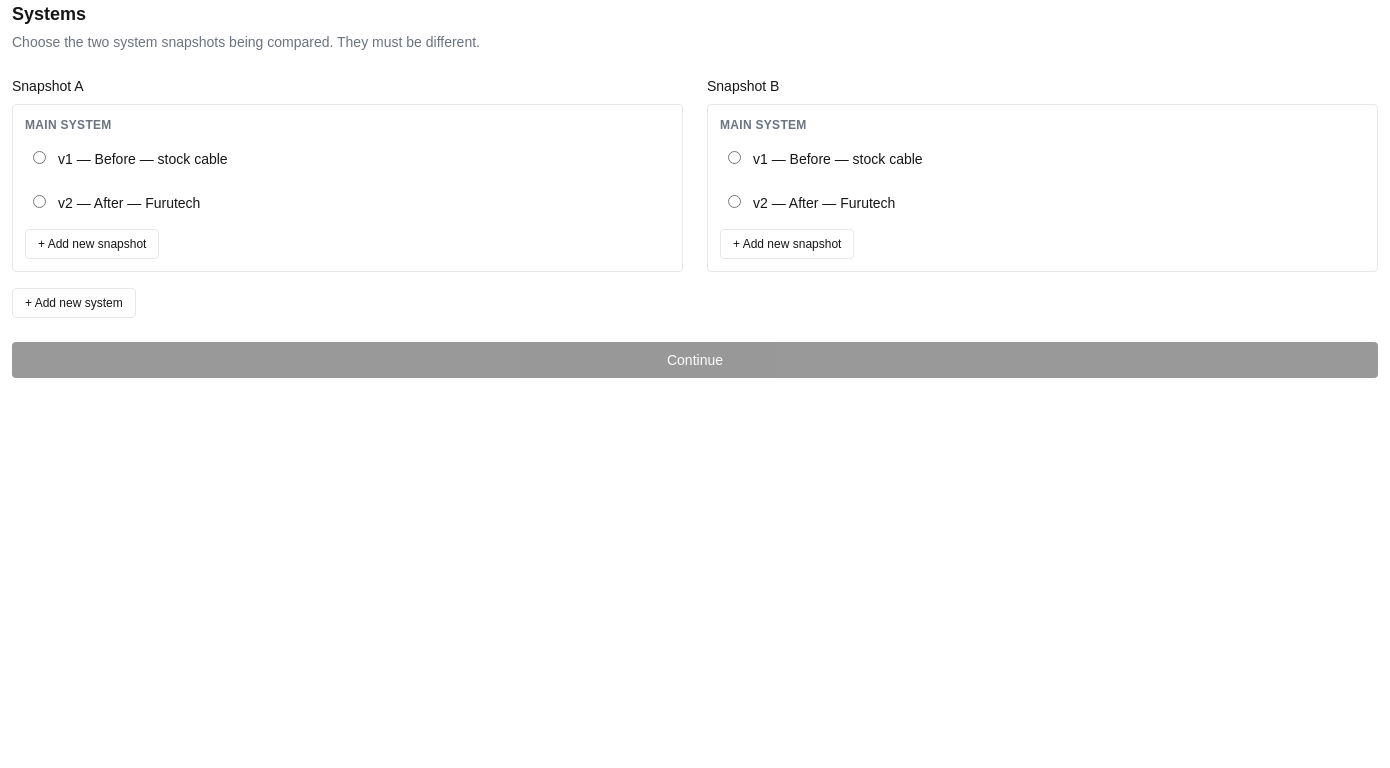
Scenario: StepSnapshots › Inline form — open and close › shows the mini-form when "+ Add new snapshot" is clicked
// Index [0] targets the Column-A (Snapshot A) selector's add button
Click the button "+ Add new snapshot" below "Snapshot A" at (92, 244), box [25, 229, 159, 259]
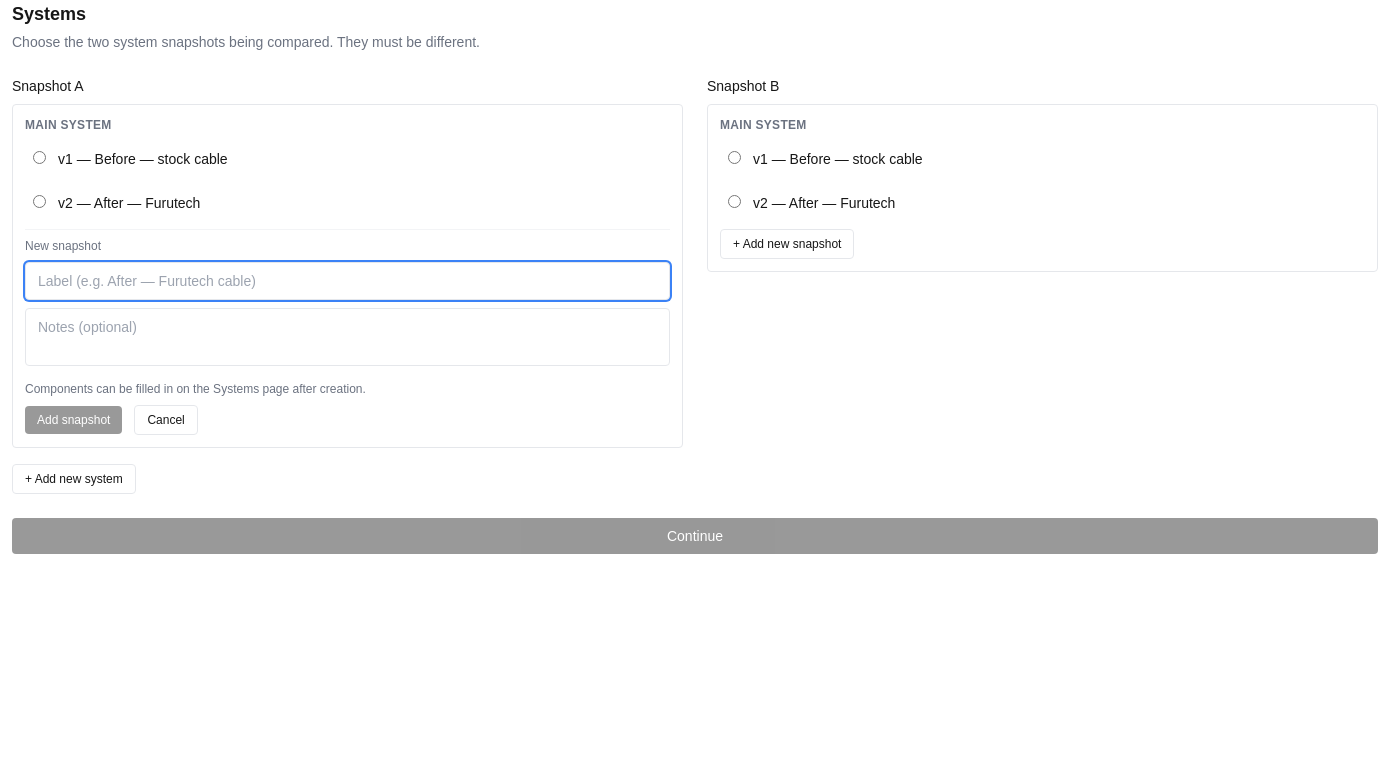
Now the field with placeholder "Label (e.g. After — Furutech cable)" is shown, box [25, 262, 670, 300]
Now the text box with placeholder "Notes (optional)" is shown, box [25, 308, 670, 366]
Now the button "Add snapshot" is shown, box [25, 406, 122, 434]
